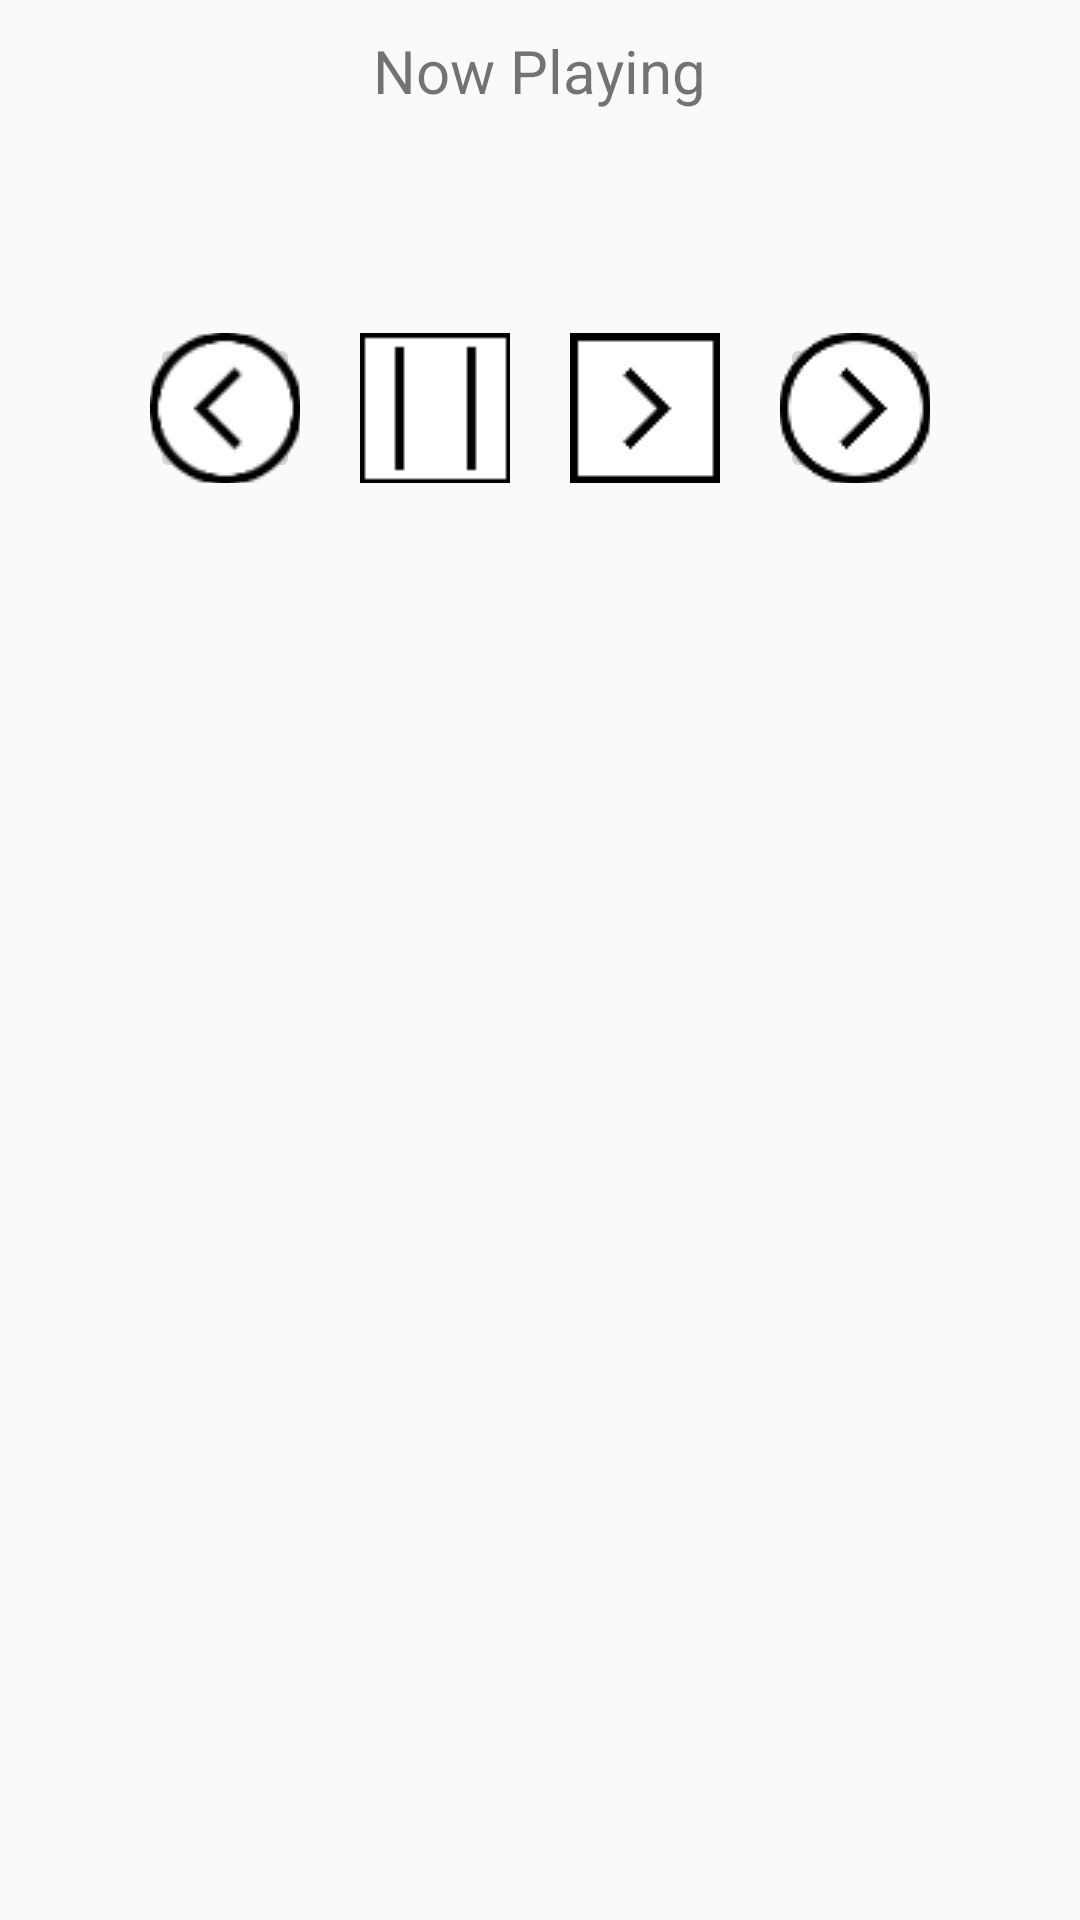

Screen size 1080 x 1920. Icon name, then its box in pixels as (x1, y1, x2, y2):
next: (780, 333, 930, 483)
pause: (360, 333, 510, 483)
play: (570, 333, 720, 483)
previous: (150, 333, 300, 483)
